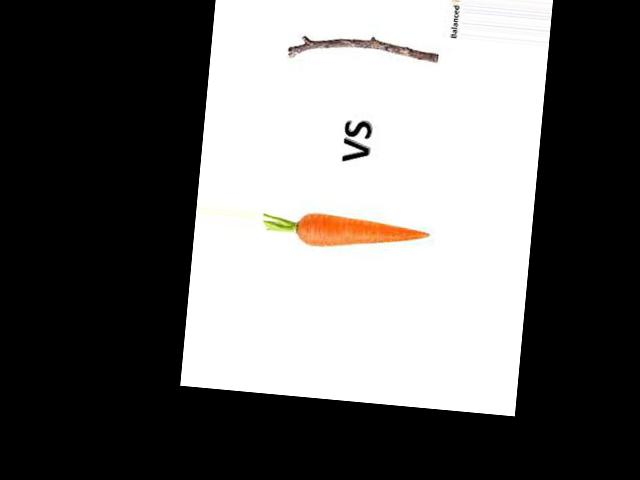carrot: (291, 201, 435, 262)
